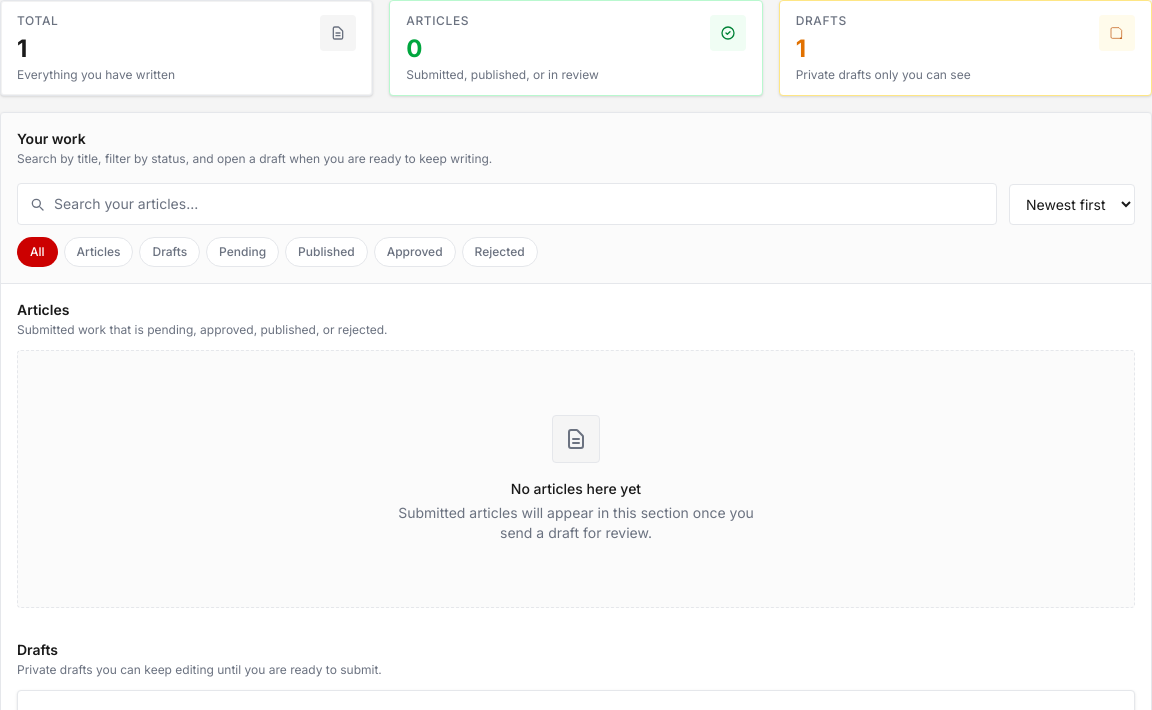
it: MyArticlesList › shows a no-match message when search filters out all articles
Type "nonexistent" into the search field with test id "article-search-input" at (507,204), box [17,183,997,225]
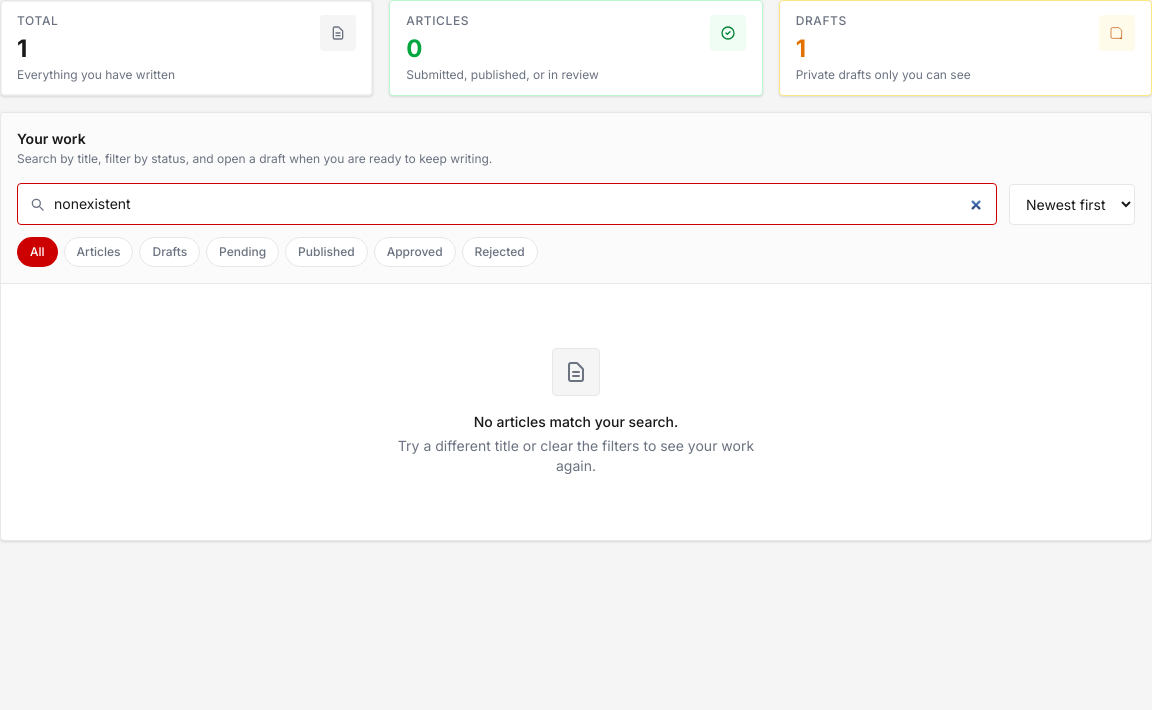
Now the element with test id "my-articles-empty" shows "No articles match your search.", box [474,413,678,430]
